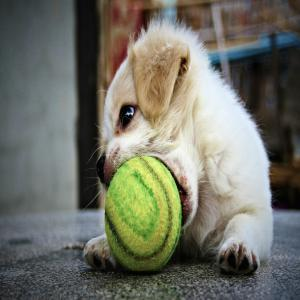TennisBall: (105, 155, 182, 273)
